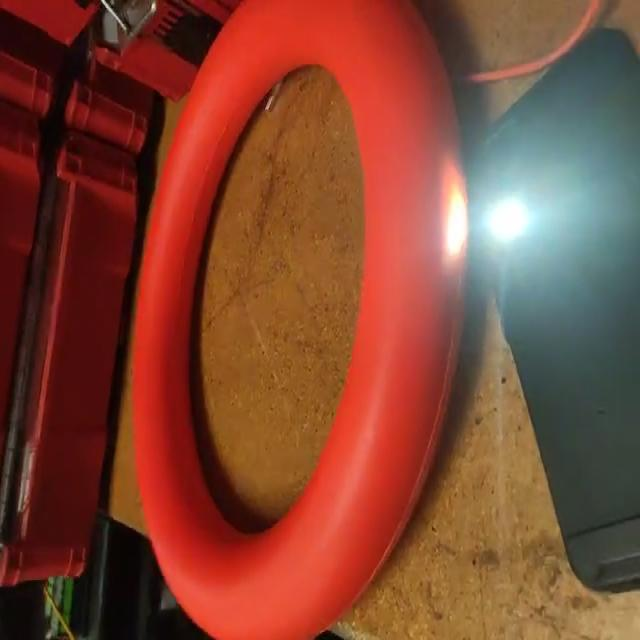note: (124, 0, 474, 640)
